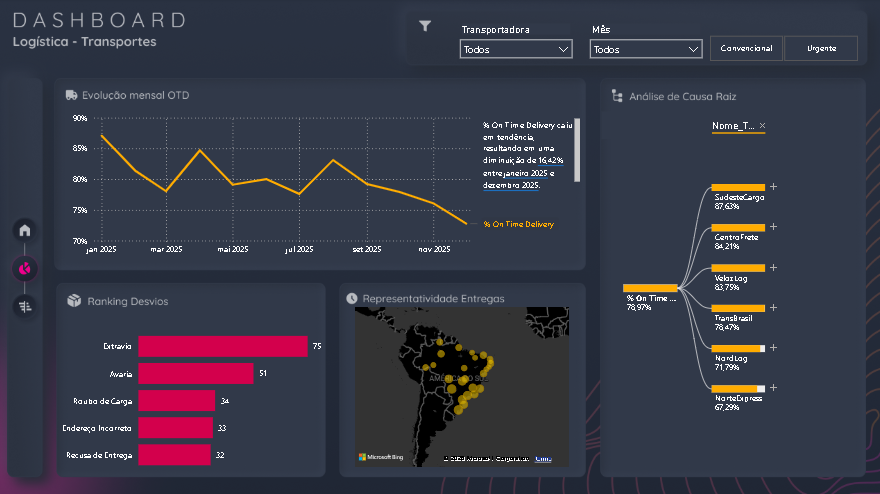

The page's visual inventory and layout, read from the dashboard file:
{"tool":"powerbi","page":{"name":"Página 1","canvas":[1280,720],"ordinal":0},"visuals":[{"type":"barChart","fields":{"Category":["Historico Transporte.Tipo_Desvio"],"Y":["Historico Transporte.Total Entregas"]},"box":[85,458.3,391.7,236.7],"z":0},{"type":"map","fields":{"Category":["Historico Transporte.País","Historico Transporte.Destino Estado"],"Size":["Historico Transporte.Total Entregas"]},"box":[516.2,440.8,317,240],"z":1000},{"type":"lineChart","fields":{"Category":["Historico Transporte.Data_Entrega_Real.Variation.Hierarquia de datas.Ano","Historico Transporte.Data_Entrega_Real.Variation.Hierarquia de datas.Trimestre","Historico Transporte.Data_Entrega_Real.Variation.Hierarquia de datas.Mês","Historico Transporte.Data_Entrega_Real.Variation.Hierarquia de datas.Dia"],"Y":["Historico Transporte.% On Time Delivery"]},"box":[108,158,725,220],"z":2000},{"type":"textbox","box":[700,168,149,129],"z":3000},{"type":"decompositionTreeVisual","fields":{"Analyze":["Historico Transporte.% On Time Delivery"],"ExplainBy":["Transportadoras.Nome_Transportadora","Historico Transporte.Destino Estado","Historico Transporte.Cidade Destino"]},"box":[870,158,374,512],"z":4000},{"type":"slicer","fields":{"Values":["Historico Transporte.Data_Prevista_Entrega.Variation.Hierarquia de datas.Mês"]},"box":[848.3,31.7,181.7,65],"z":5000},{"type":"slicer","fields":{"Values":["Transportadoras.Nome_Transportadora"]},"box":[661.7,31.7,181.7,65],"z":5001},{"type":"slicer","fields":{"Values":["Historico Transporte.Tipo_Frete"]},"box":[1005.7,47.1,262.9,50],"z":5002}]}

Visuals, with their boxes on the page's 1280x720 design canvas (x1, y1, x2, y2). These are canvas units, not pixel positions in the 880x494 screenshot, which may show the page scaled, cropped or inside an application window:
barChart - Historico Transporte.Tipo_Desvio x Historico Transporte.Total Entregas: [85, 458, 477, 695]
map - Historico Transporte.País x Historico Transporte.Destino Estado: [516, 441, 833, 681]
lineChart - Historico Transporte.Data_Entrega_Real.Variation.Hierarquia de datas.Ano x Historico Transporte.Data_Entrega_Real.Variation.Hierarquia de datas.Trimestre: [108, 158, 833, 378]
textbox: [700, 168, 849, 297]
decompositionTreeVisual - Historico Transporte.% On Time Delivery x Transportadoras.Nome_Transportadora: [870, 158, 1244, 670]
slicer - Historico Transporte.Data_Prevista_Entrega.Variation.Hierarquia de datas.Mês: [848, 32, 1030, 97]
slicer - Transportadoras.Nome_Transportadora: [662, 32, 843, 97]
slicer - Historico Transporte.Tipo_Frete: [1006, 47, 1269, 97]
